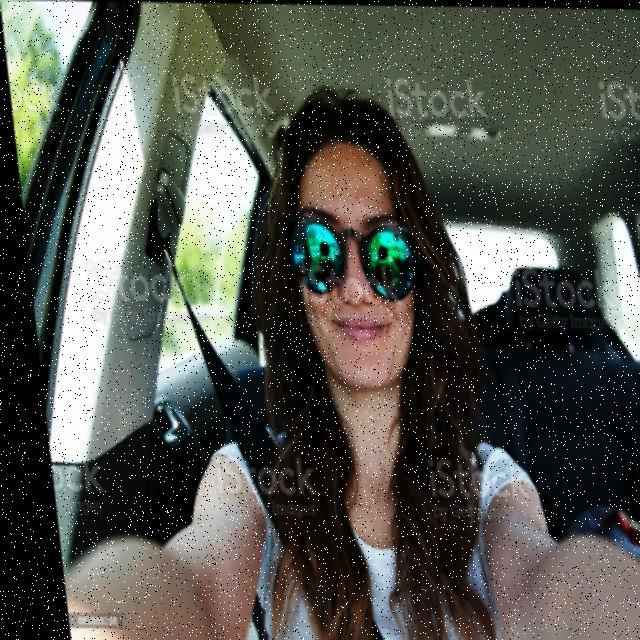seatbelt: (108, 248, 372, 640)
